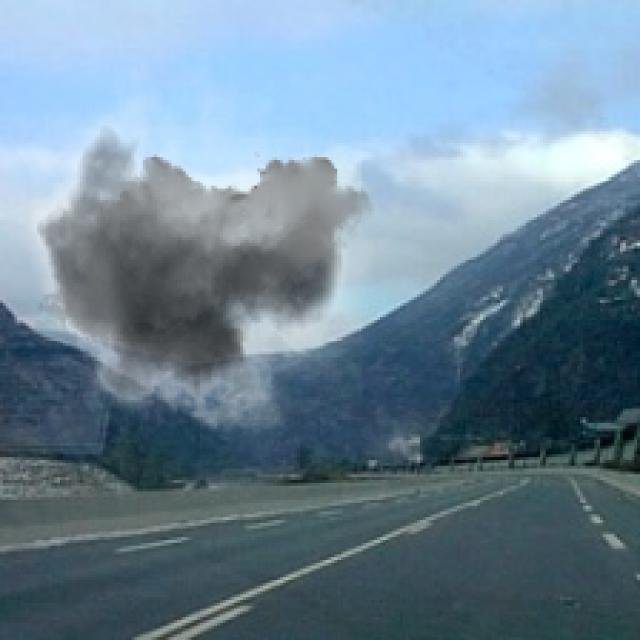smoke: (6, 49, 374, 452)
